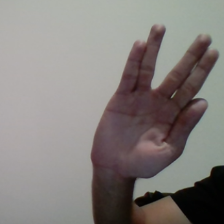left: (87, 18, 222, 177)
